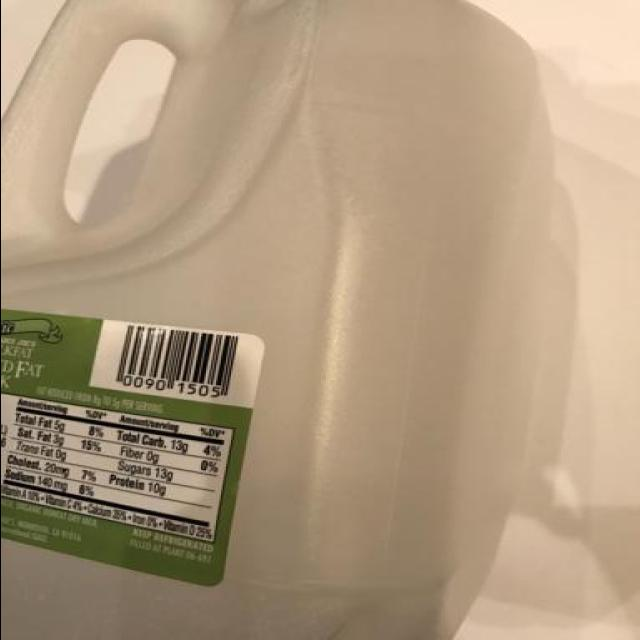litter: (1, 1, 562, 639)
